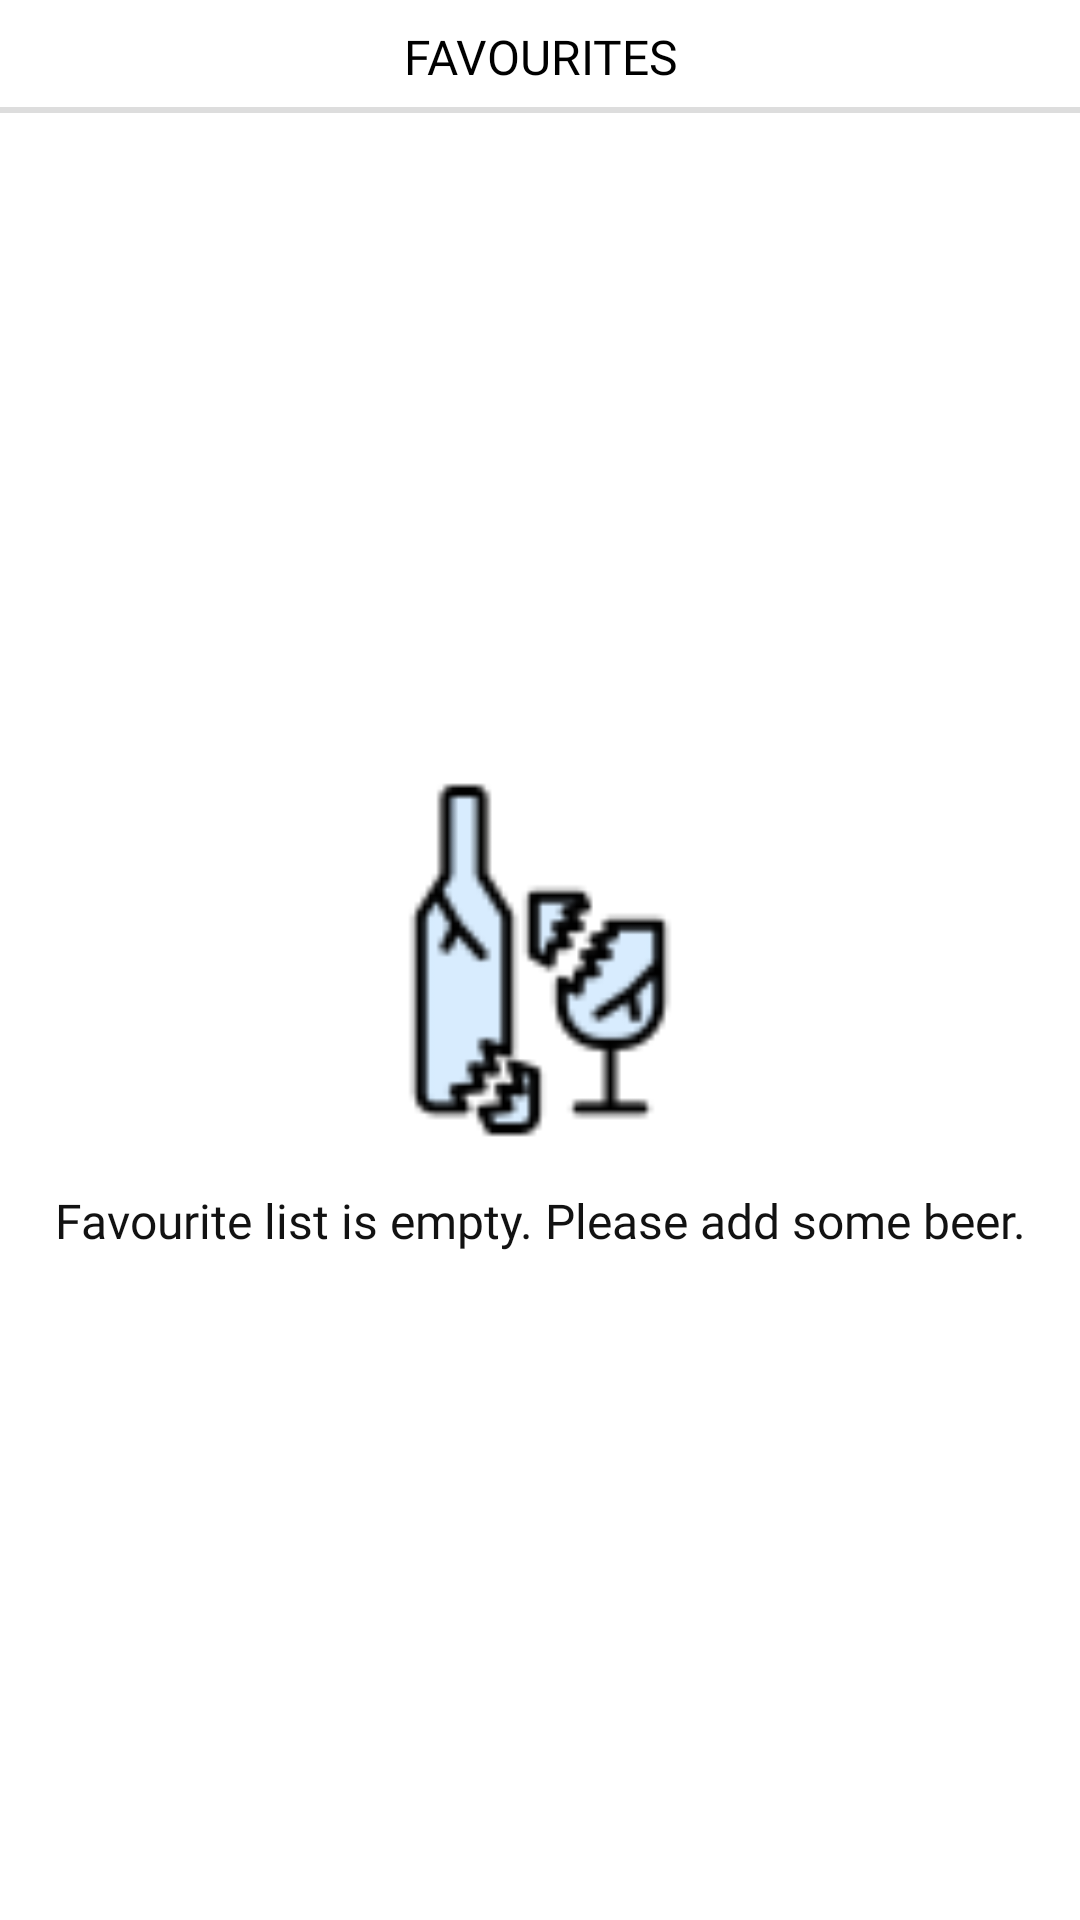

Icon click points for this 1080 x 1920 phone screenshot, format [x,y]:
broken bottle: [540,960]
